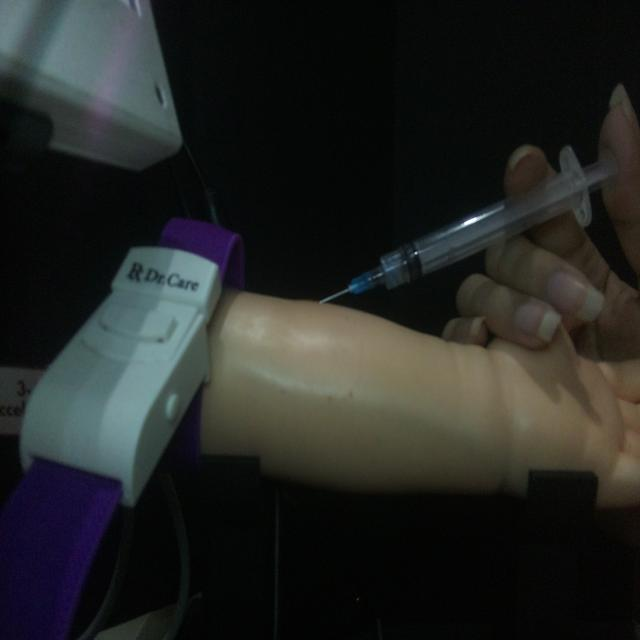15 degrees: (318, 142, 619, 307)
